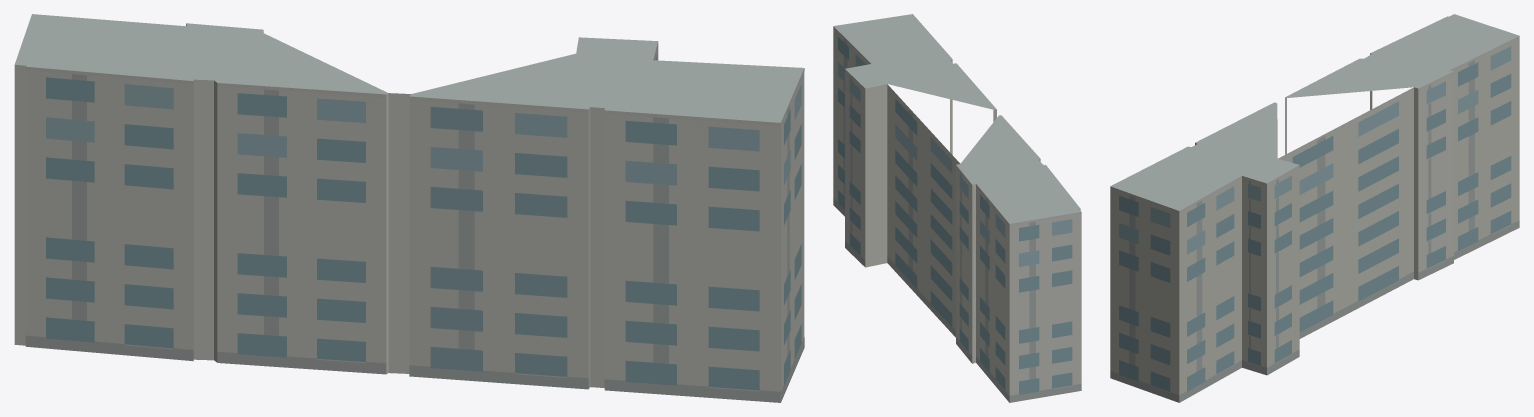
Rendered from survey-upis-32894145.glb.
3 renders of one model, left to right at view 1: azimuth 30°, elevation 25°; view 2: azimuth 150°, elevation 25°; view 3: azimuth 270°, elevation 25°, orthographic. The views are drawn at different scales.
Parts seen in each view (by area): view 1: survey-upis-32894145.tmp; view 2: survey-upis-32894145.tmp; view 3: survey-upis-32894145.tmp.
Part boxes in pixels (x1,y1,x2,y2): survey-upis-32894145.tmp: (14, 14, 804, 402); survey-upis-32894145.tmp: (833, 14, 1081, 402); survey-upis-32894145.tmp: (1110, 14, 1519, 402).
Bounding box in the file's own units: 44.6 × 20.25 × 39.17.
